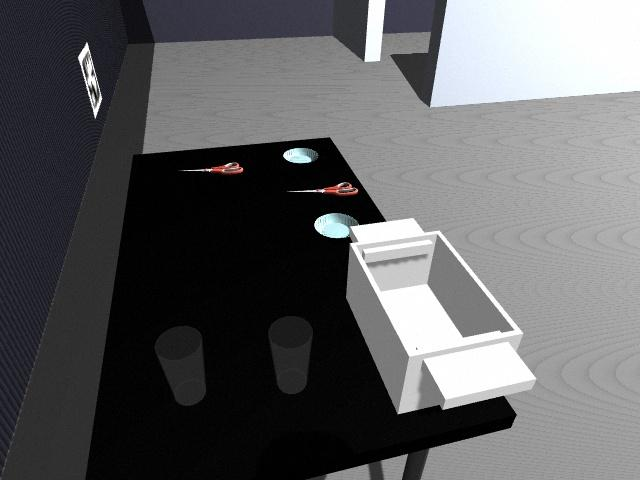cup: (154, 326, 205, 405), (268, 316, 313, 393)
plate: (313, 211, 360, 240), (282, 147, 318, 164)
scissors: (289, 182, 359, 196), (179, 162, 244, 175)
